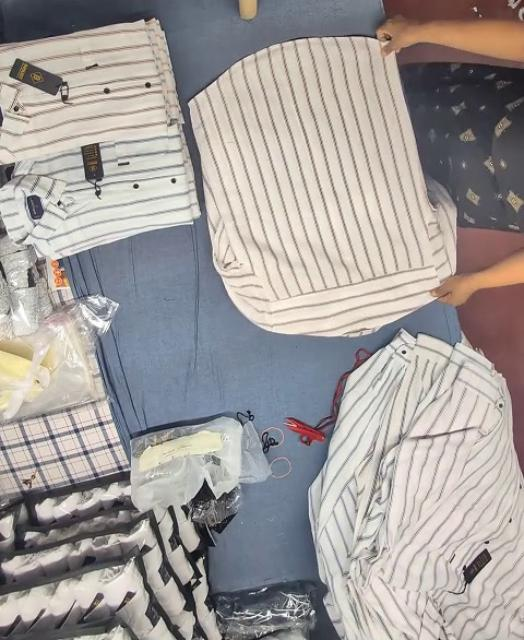new-garment: (189, 37, 454, 335)
